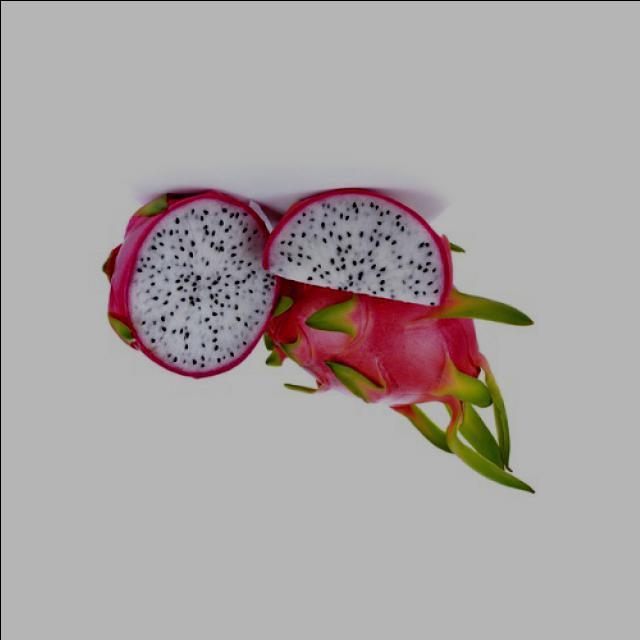trang: (264, 264, 524, 490), (99, 182, 275, 378), (263, 184, 452, 308)
